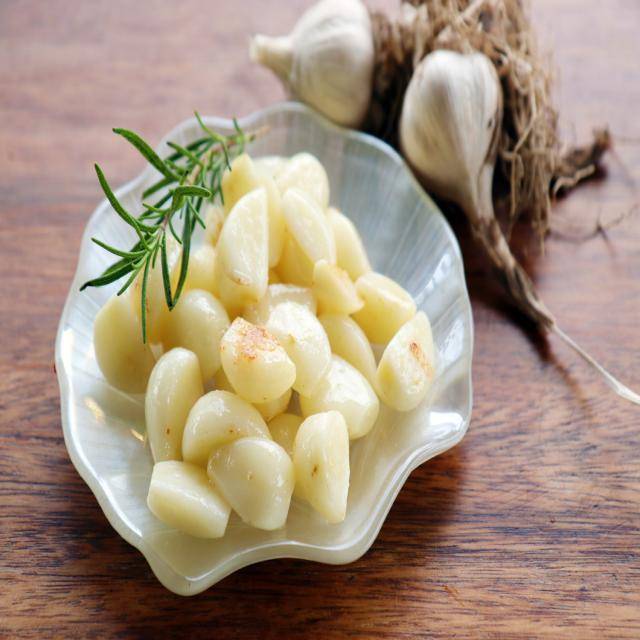garlic: (97, 146, 443, 536), (399, 46, 510, 252), (249, 1, 388, 149)
